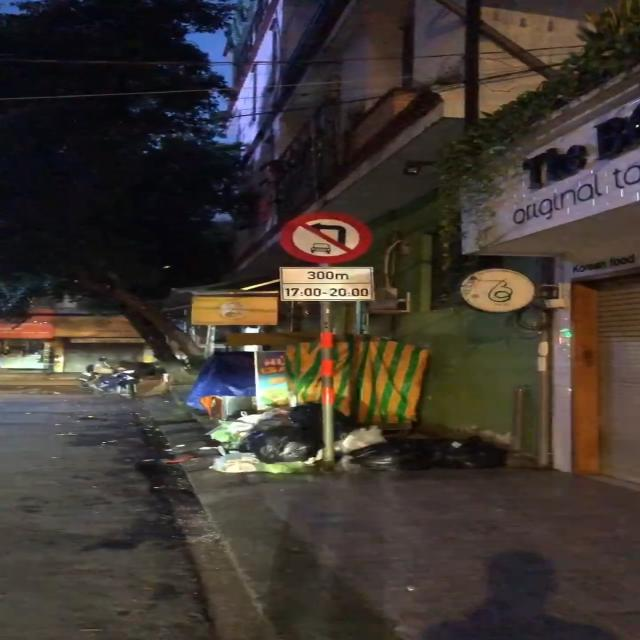Bien bao cam xe o to re trai: (275, 212, 378, 266)
